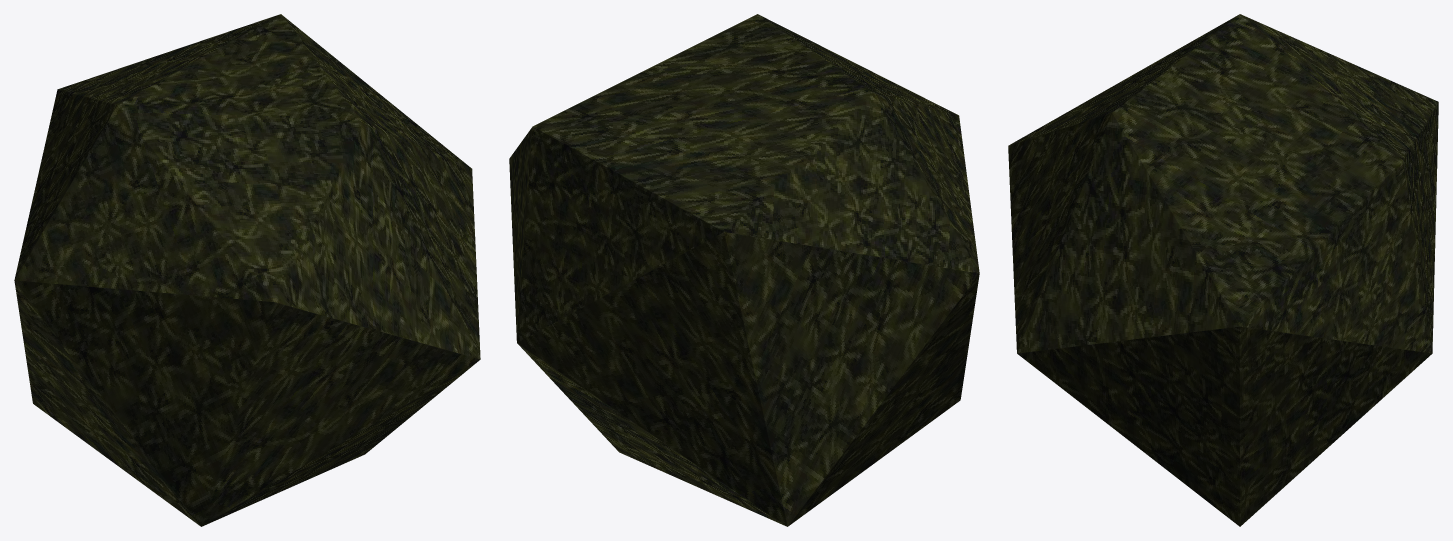
3 renders of one model, left to right at view 1: azimuth 30°, elevation 25°; view 2: azimuth 150°, elevation 25°; view 3: azimuth 270°, elevation 25°, orthographic. The views are drawn at different scales.
Visible parts, largest first — view 1: bushmodel (4); view 2: bushmodel (4); view 3: bushmodel (4).
Boxes of the visible parts, bbox=[...] form: bushmodel (4): bbox=[14, 14, 480, 526]; bushmodel (4): bbox=[509, 14, 979, 526]; bushmodel (4): bbox=[1008, 14, 1438, 526].
Bounding box in the file's own units: 2.24 × 1.91 × 1.89.
Materials: 1 (1 with a texture image).
